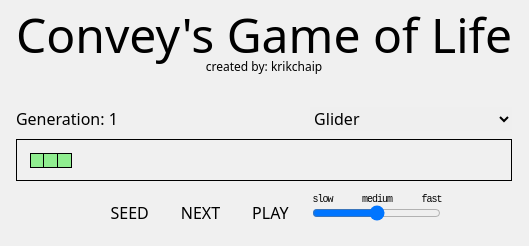
Test case: game › autoplay › stop
The width and height of the screenshot is (529, 246).
Click the button "play". click: click(270, 213)
box: [244, 197, 296, 229]
Wait 2000 ms
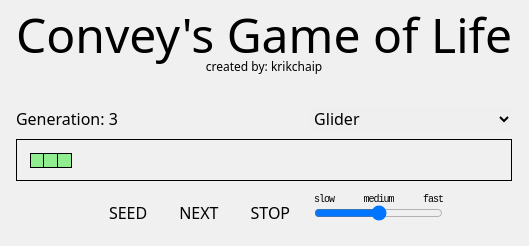
Expected: the button "play" reads "stop"
Click the button "play". click: click(270, 213)
box: [242, 197, 298, 229]
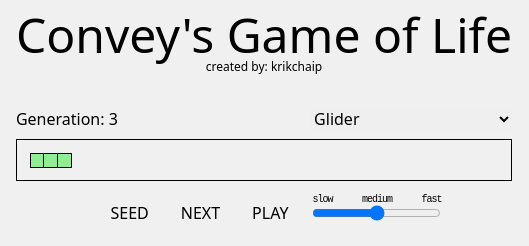
Expected: the button "play" is shown, [244, 197, 296, 229]
